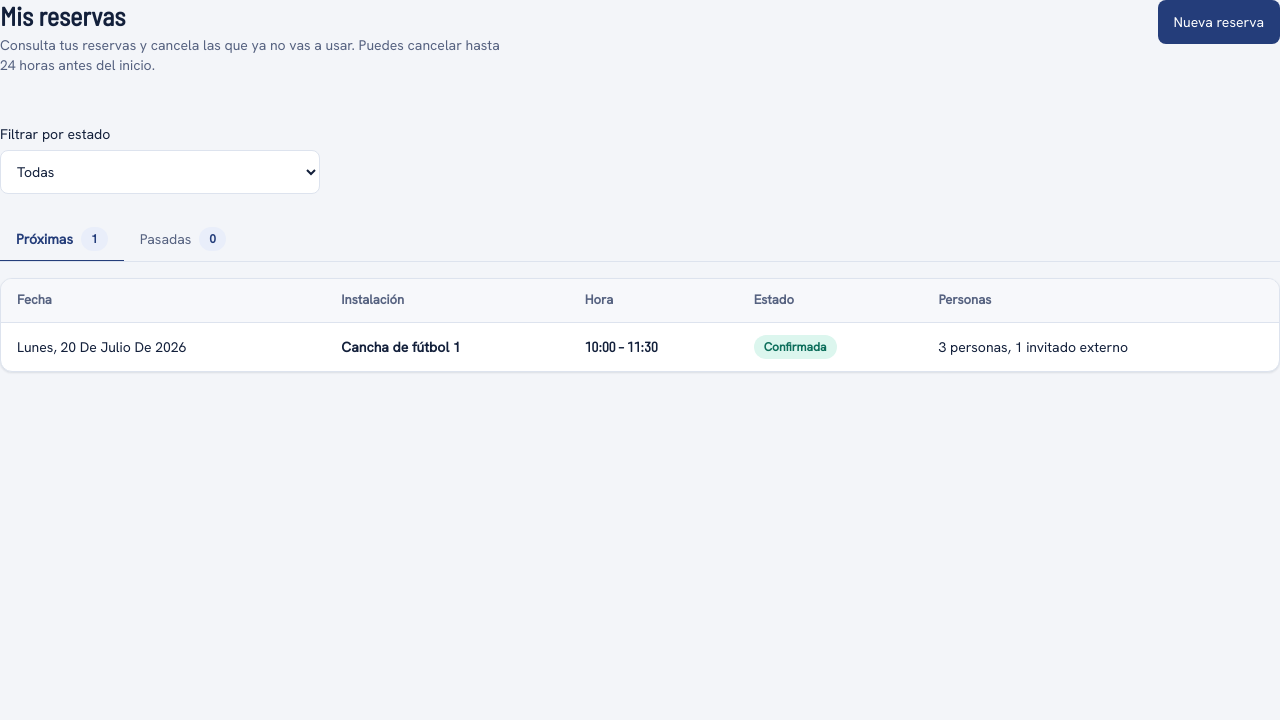
Test case: MyReservationsPage › panel de detalle › muestra participantes sin inventar nombres de socios ni exponer el DNI
The width and height of the screenshot is (1280, 720).
What coordinates should you click on to do the following:
click the row named "Abrir detalle"
I would click on:
 (640, 346)
Its box is [1,322,1279,370].
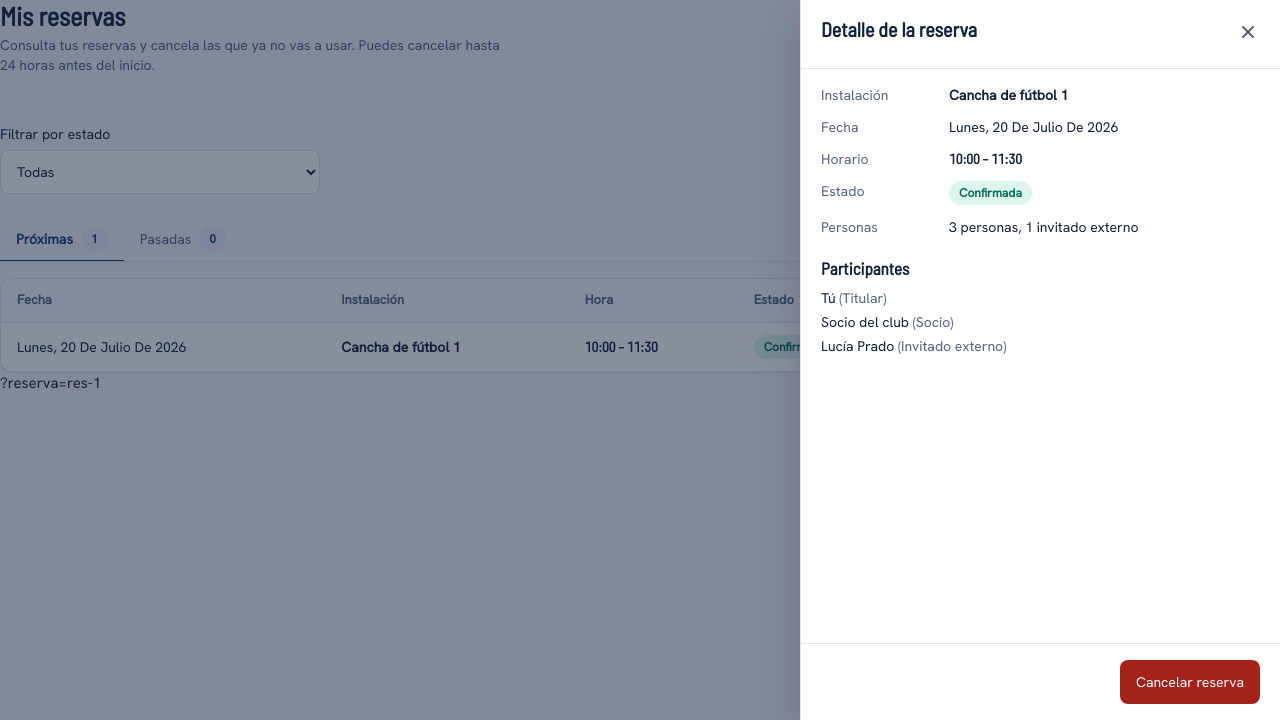
Expected: the list item "Lucía Prado" is shown, [821,337,894,355]
Expected: the list item "Socio del club" is shown, [821,313,909,331]
Expected: the list item "Tú" is shown, [821,289,836,307]
